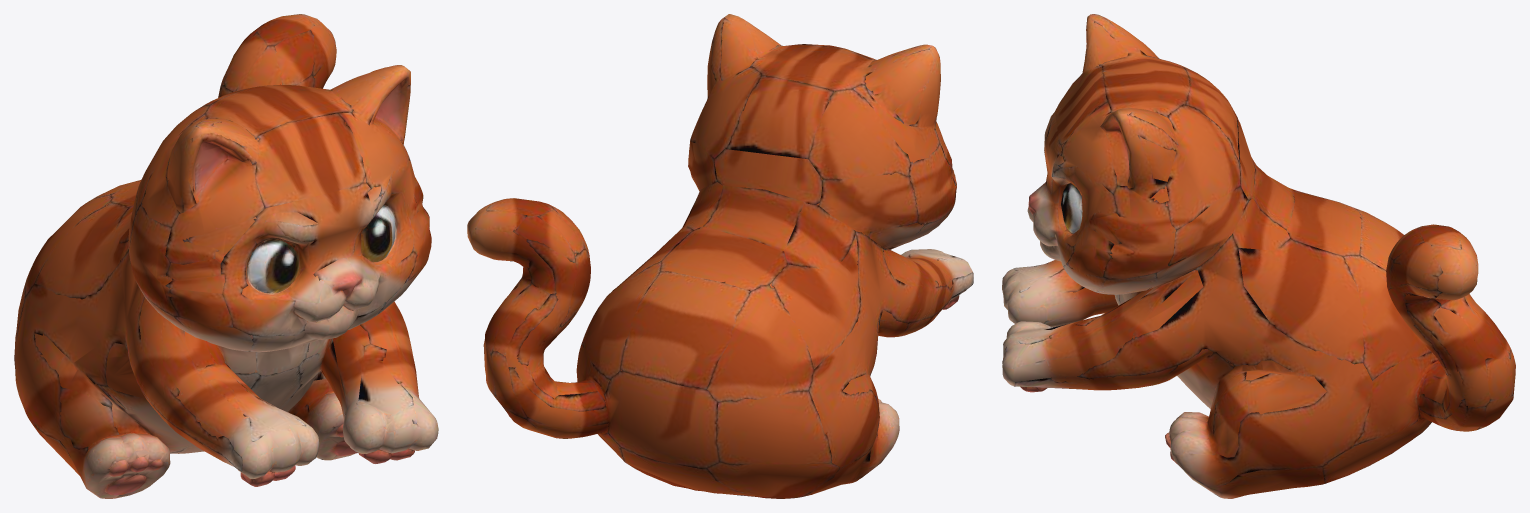
Rendered from cat.glb.
The picture shows the model from 3 angles, left to right: view 1: azimuth 30°, elevation 25°; view 2: azimuth 150°, elevation 25°; view 3: azimuth 270°, elevation 25°; orthographic projection. The views are drawn at different scales.
Size of the model in its own units: 0.7454 by 0.83 by 0.997.
Materials: 1 (1 with a texture image).
